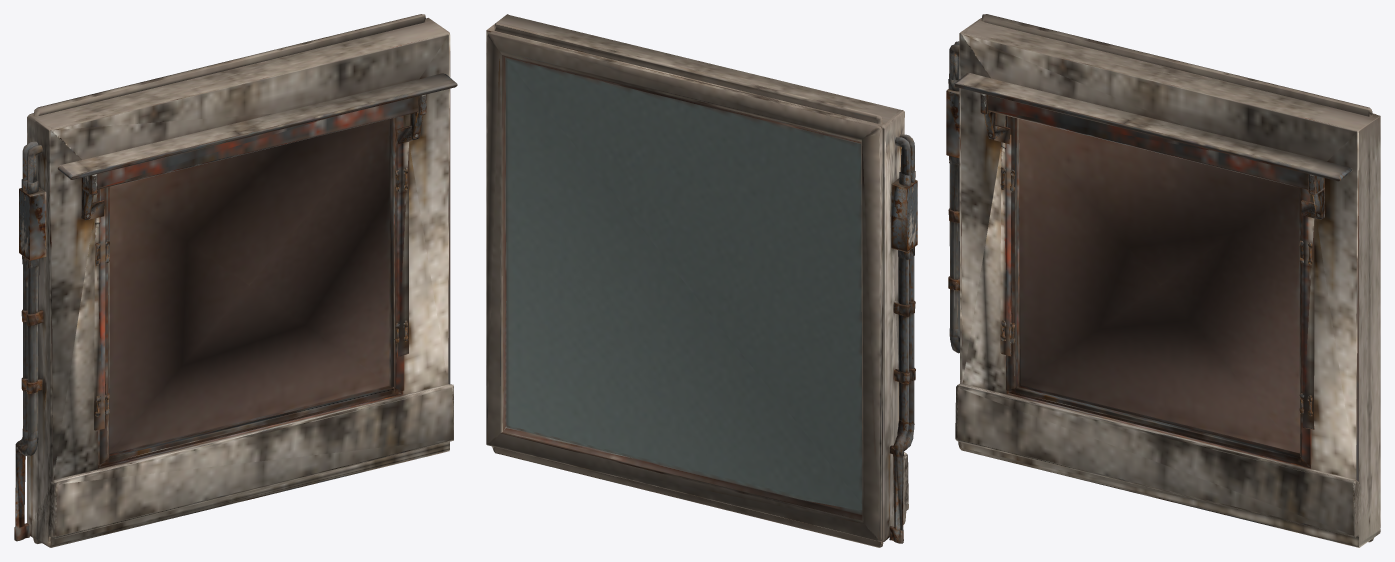
Rendered from window_b.glb.
The picture shows the model from 3 angles, left to right: view 1: azimuth 30°, elevation 25°; view 2: azimuth 150°, elevation 25°; view 3: azimuth 330°, elevation 25°; orthographic projection.
Visible parts, largest first — view 1: Mesh_0; view 2: Mesh_0; view 3: Mesh_0.
Part boxes in pixels (box(x1,y1,x2,y2)): Mesh_0: box(14, 14, 457, 547); Mesh_0: box(486, 14, 917, 547); Mesh_0: box(946, 14, 1380, 547).
Size of the model in its own units: 1.6 by 1.6 by 0.25.
1 material, 1 textured.
